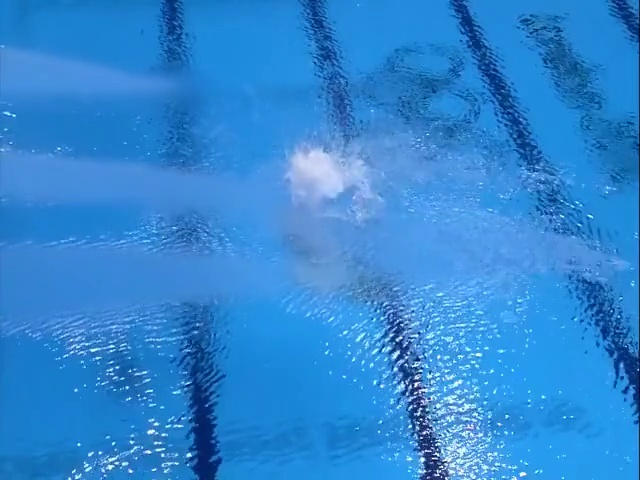splash: (287, 142, 384, 222)
